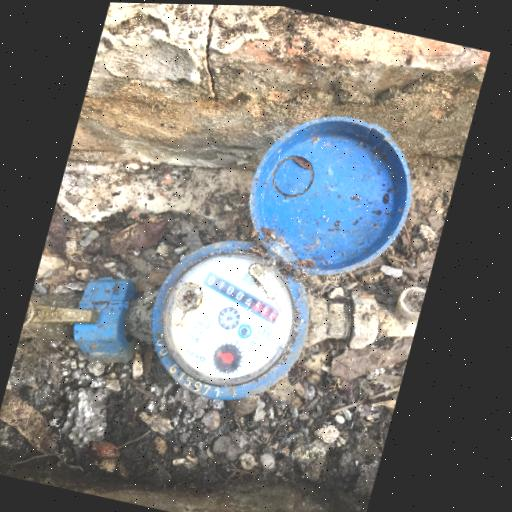0: (222, 283, 238, 299), (232, 288, 248, 304), (204, 272, 219, 288)
1: (213, 277, 228, 293)
4: (242, 293, 256, 310)
5: (265, 307, 282, 325), (251, 299, 265, 314)
9: (258, 303, 272, 318)
border_water_meter_number: (194, 269, 290, 327)
